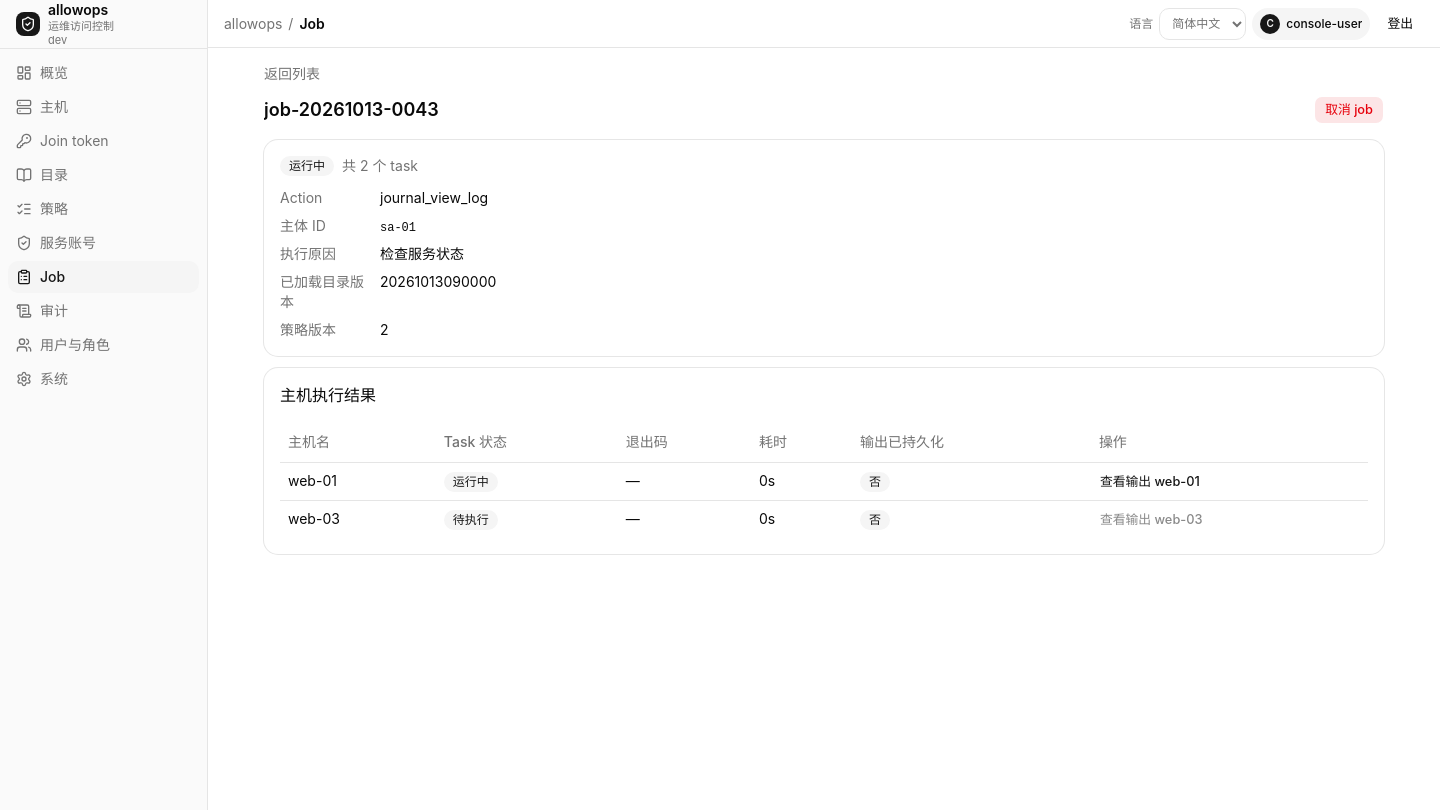
Test: job cancellation notifications › exposes a denial while the zh-CN confirmation stays open
Click the button "取消 job": {"x": 1349, "y": 110} 1314,96 -> 1384,124
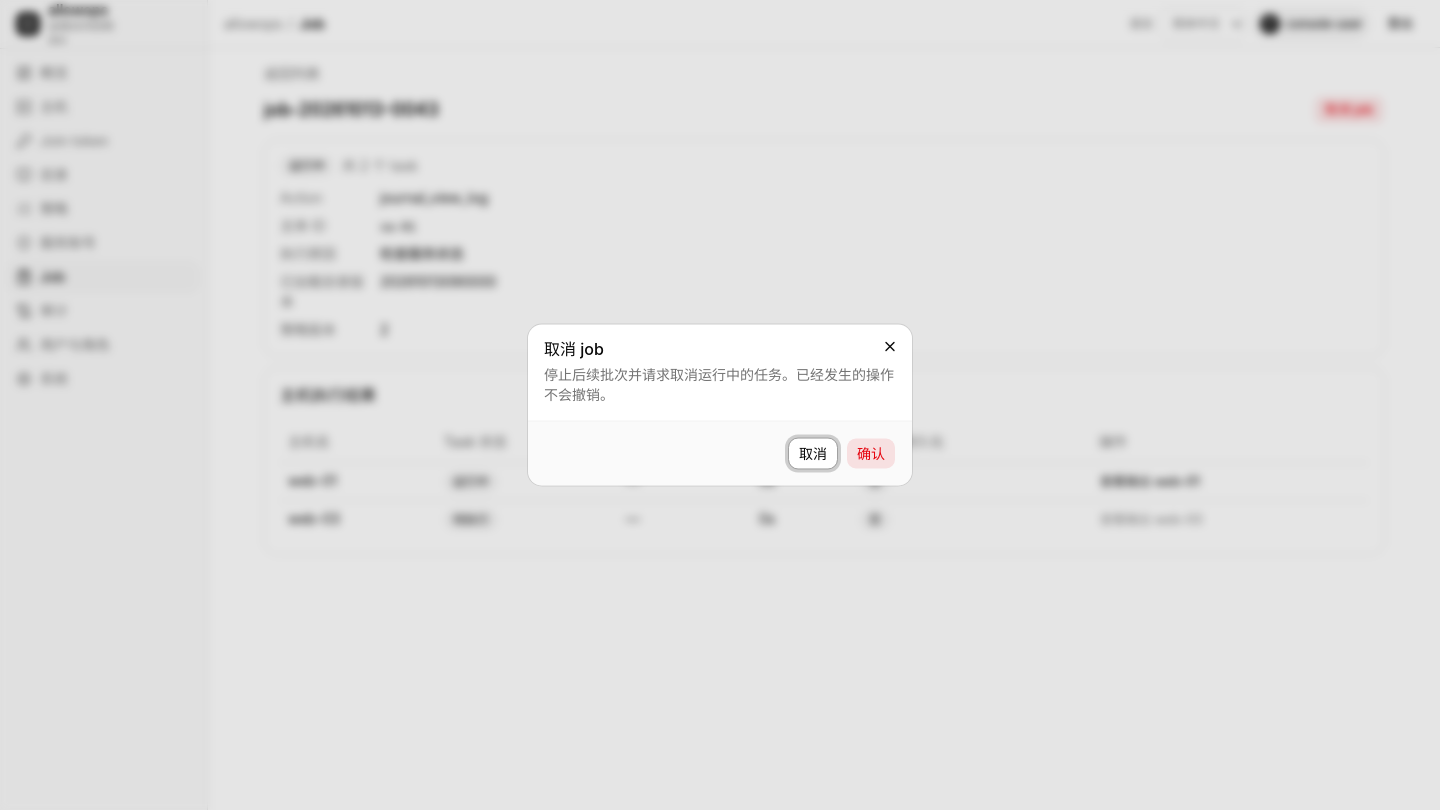
Click the button "确认": {"x": 871, "y": 454} 846,438 -> 896,470
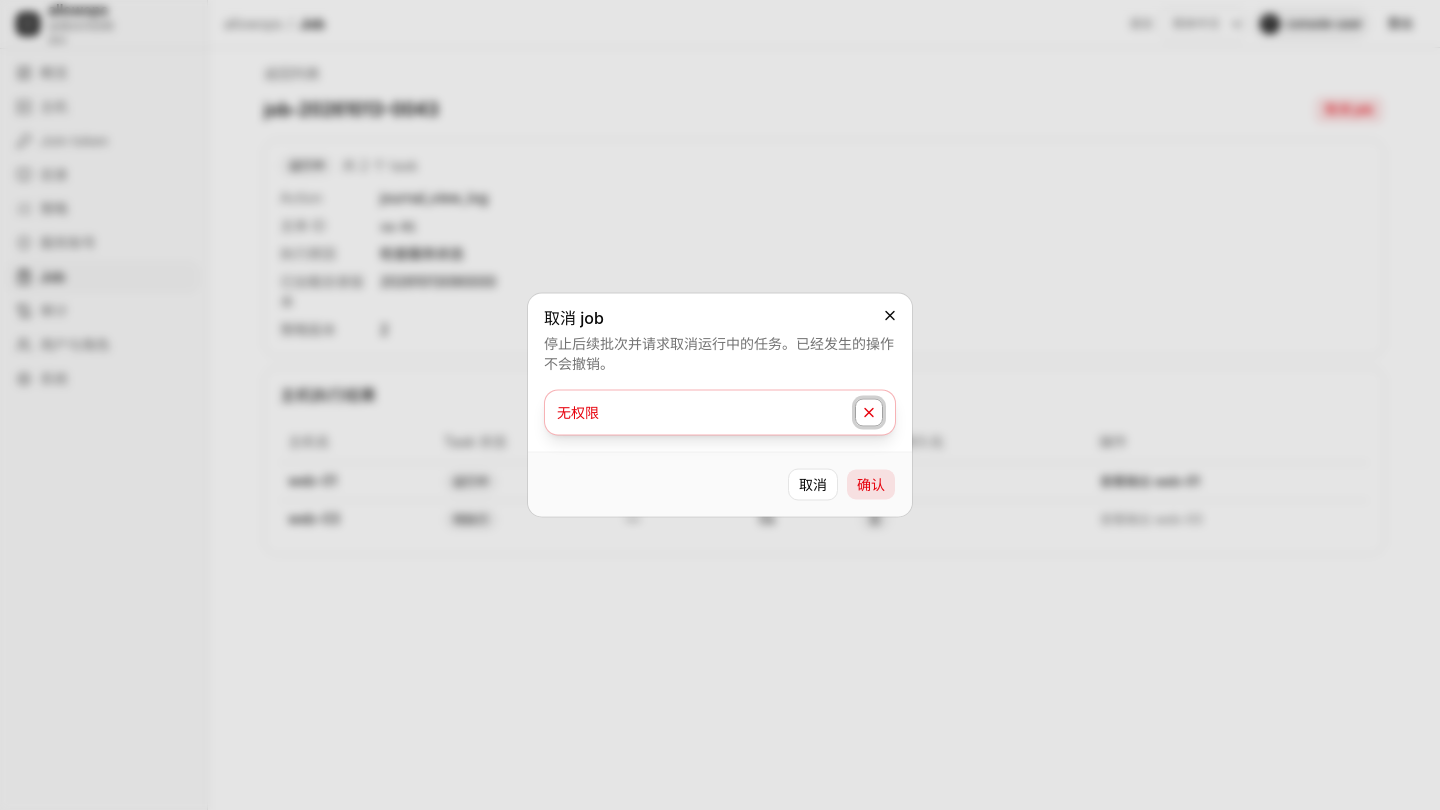
Expected: the message reads "无权限", 557,404 -> 599,420
Expected: the message "无权限" is shown, 544,390 -> 896,436
Click the button named "关闭" in the row of "无权限": {"x": 869, "y": 412} 855,398 -> 883,426
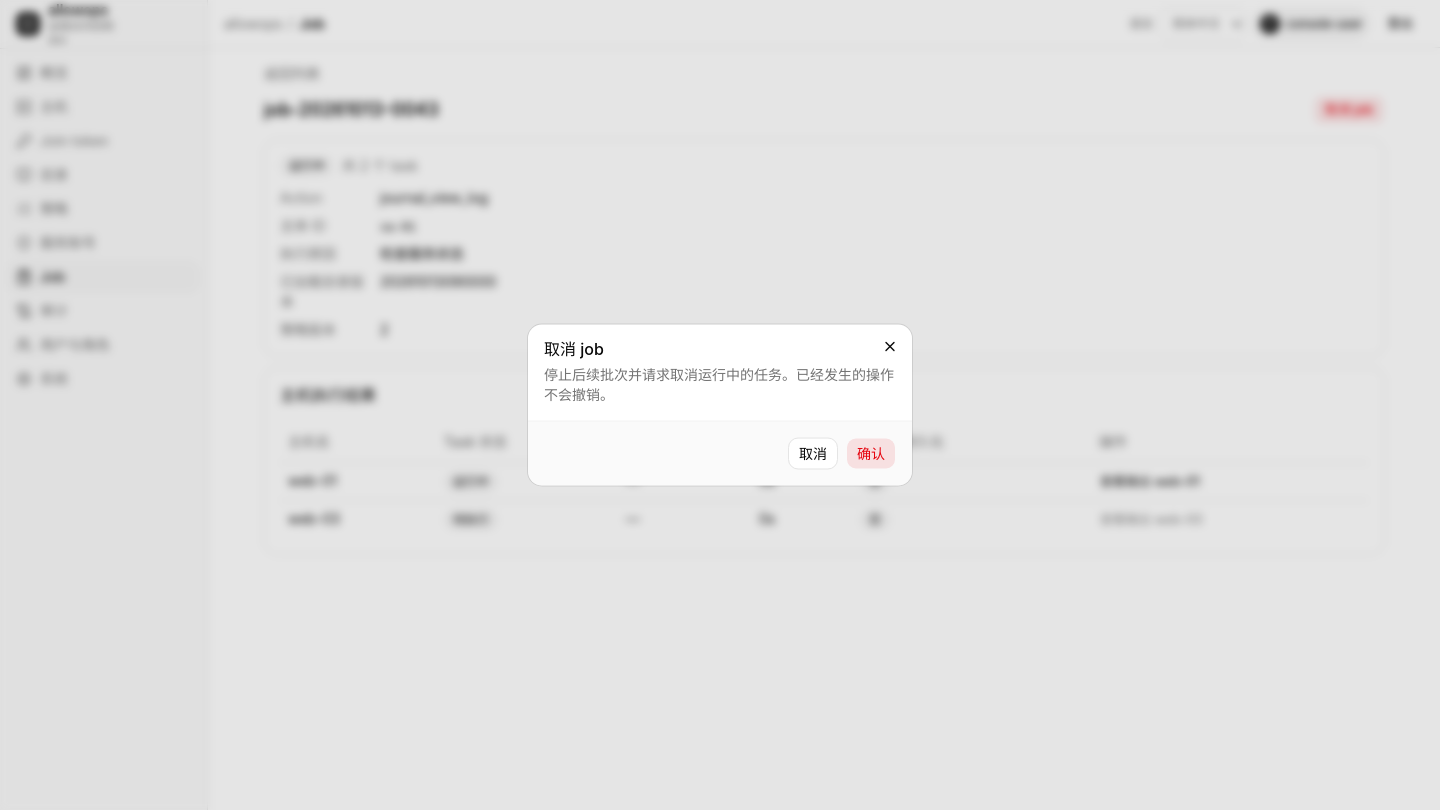
Expected: the message "无权限" is gone
